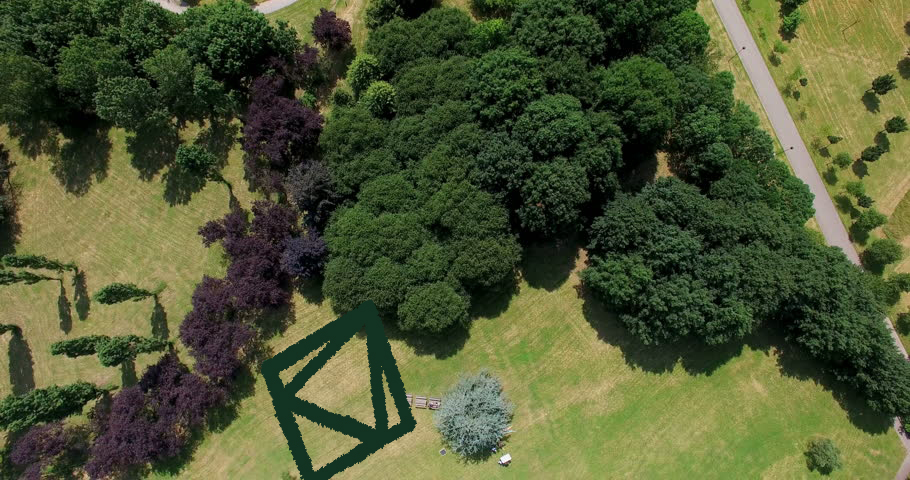marker: (250, 298, 423, 480)
